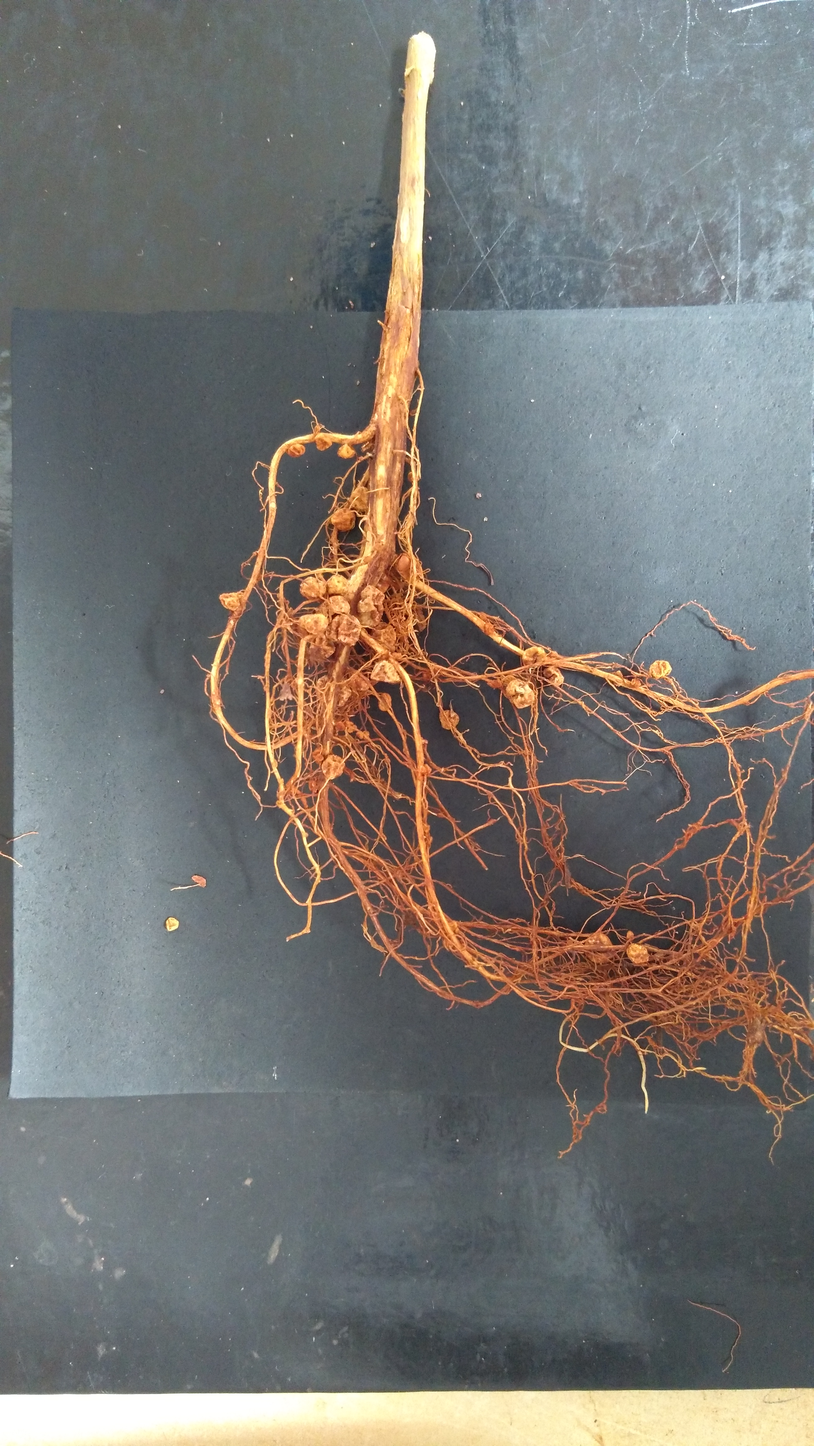nodule: (324, 612, 362, 647), (368, 619, 398, 663), (356, 584, 385, 628), (315, 674, 351, 708), (620, 958, 663, 985), (296, 613, 330, 644), (583, 932, 615, 964), (506, 678, 536, 709), (313, 595, 351, 617), (369, 659, 401, 685), (744, 1015, 769, 1048), (405, 600, 428, 635), (305, 634, 337, 659), (299, 576, 327, 602), (290, 616, 310, 650), (396, 552, 422, 578), (321, 753, 346, 780), (385, 592, 412, 617), (330, 507, 356, 531), (348, 486, 370, 514), (325, 574, 350, 597), (521, 645, 546, 668), (375, 566, 396, 593), (626, 942, 650, 965), (348, 669, 371, 692), (218, 591, 244, 611), (647, 660, 672, 680), (542, 666, 565, 686), (306, 766, 322, 794), (439, 709, 460, 730), (499, 674, 517, 694), (336, 443, 356, 460), (315, 435, 334, 452), (440, 920, 460, 936), (279, 681, 294, 702), (377, 692, 393, 711), (364, 667, 380, 686), (311, 745, 326, 765), (287, 443, 306, 458), (610, 669, 625, 687), (359, 438, 375, 454), (164, 917, 180, 933), (486, 677, 503, 690), (420, 666, 432, 684), (192, 874, 207, 888), (483, 621, 496, 637), (344, 719, 358, 733), (629, 676, 643, 690), (407, 470, 420, 483), (333, 720, 346, 732), (421, 764, 433, 776), (624, 929, 635, 940), (478, 611, 488, 622), (424, 834, 433, 846), (362, 730, 370, 740), (422, 823, 430, 833), (420, 736, 428, 745), (356, 730, 364, 739), (383, 757, 391, 764)
